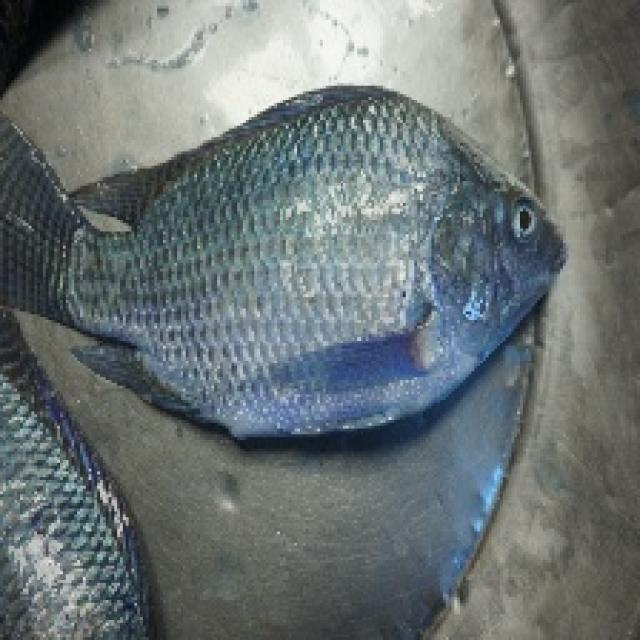Fresh: (0, 68, 595, 437)
